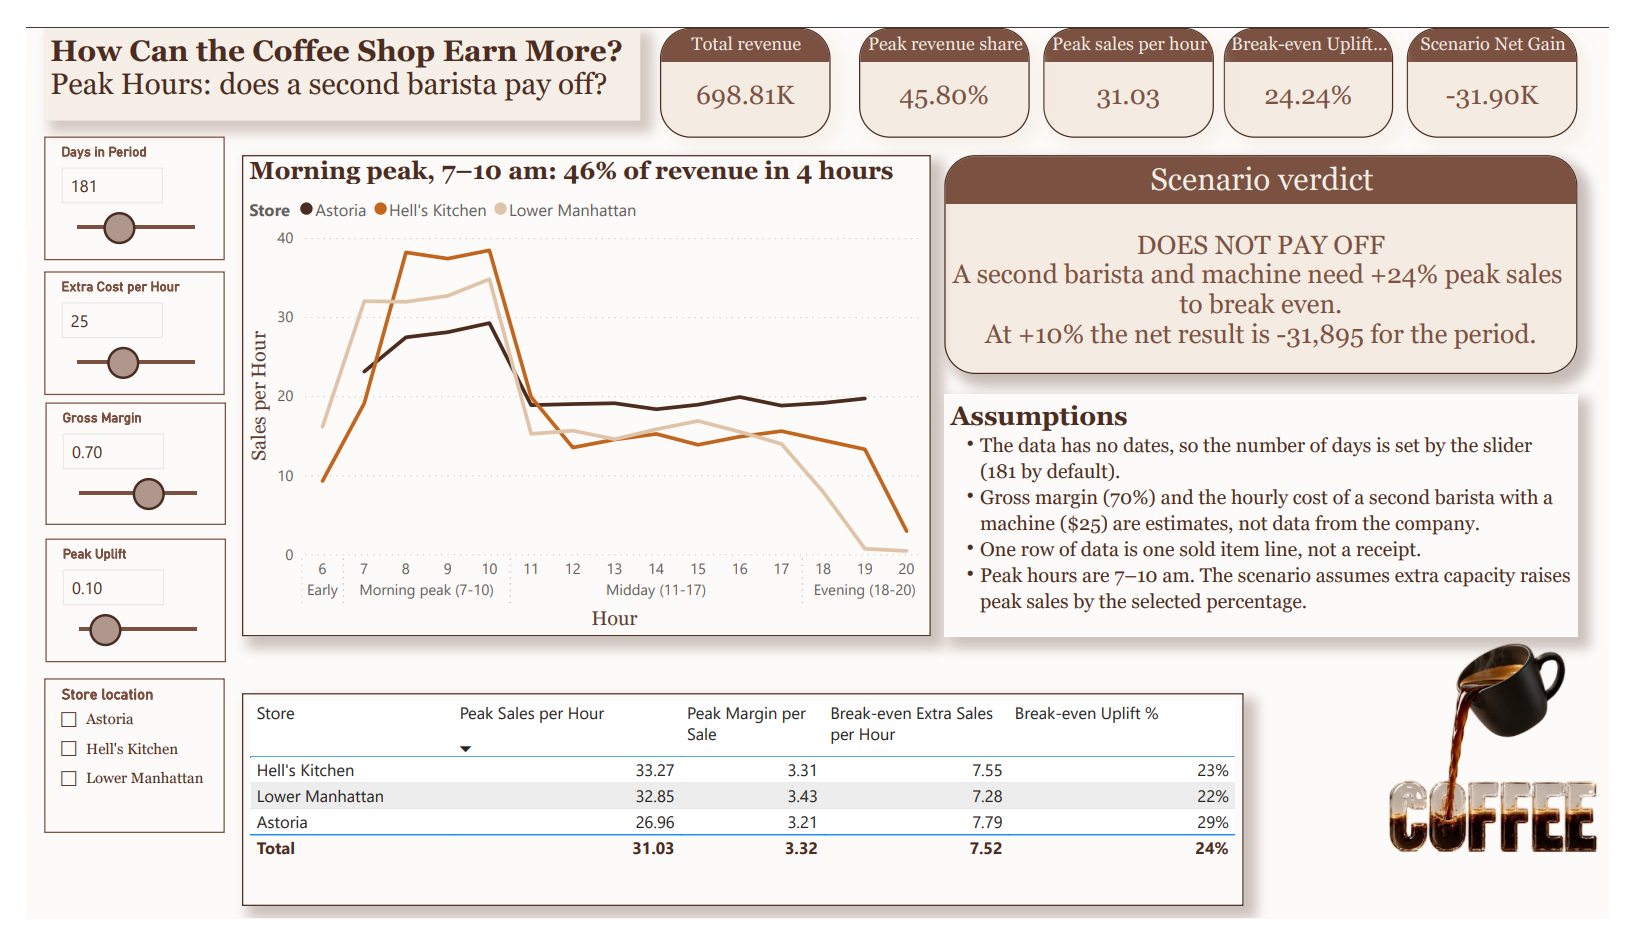

Layout of this report page (visuals, bound fields, positions):
{"tool":"powerbi","page":{"name":"Peak Hours","canvas":[1280,720],"ordinal":0},"visuals":[{"type":"textbox","box":[15.1,0,481.9,74.8],"z":0},{"type":"slicer","fields":{"Values":["Days in Period.Days in Period"]},"box":[15.2,88.5,145.6,99.9],"z":1000},{"type":"card","title":"Total revenue ","fields":{"Values":["_Measure_base.Total Revenue"]},"box":[513.1,0,137.9,89.4],"z":2000},{"type":"image","box":[1093.1,475.7,186.5,244.5],"z":3000},{"type":"slicer","fields":{"Values":["Peak Uplift.Peak Uplift"]},"box":[16.2,412.9,145.6,99.9],"z":4000},{"type":"slicer","fields":{"Values":["Gross Margin.Gross Margin"]},"box":[16.2,302.5,145.6,99.9],"z":5000},{"type":"slicer","fields":{"Values":["Store.store_location"]},"box":[15.2,526.1,145.6,124.6],"z":6000},{"type":"slicer","fields":{"Values":["Extra Cost per Hour.Extra Cost per Hour"]},"box":[15.2,196.9,145.6,99.9],"z":7000},{"type":"card","title":"Scenario Net Gain","fields":{"Values":["_Measure_Peak.Scenario Net Gain"]},"box":[1116.9,0,137.9,89.4],"z":8000},{"type":"card","title":"Break-even Uplift, %","fields":{"Values":["_Measure_Peak.Break-even Uplift %"]},"box":[968.5,0,137.9,89.4],"z":9000},{"type":"card","title":"Peak sales per hour","fields":{"Values":["_Measure_Peak.Peak Sales per Hour"]},"box":[822.7,0,137.9,89.4],"z":10000},{"type":"card","title":"Peak revenue share","fields":{"Values":["_Measure_Peak.Peak Revenue Share"]},"box":[674.1,0,137.9,89.4],"z":11000},{"type":"lineChart","title":"Morning peak, 7–10 am: 46% of revenue in 4 hours","fields":{"Category":["Hour.daypart","Hour.hour"],"Series":["Store.store_location"],"Y":["_Measure_base.Sales per Day"]},"box":[175.1,103.2,556.7,389.1],"z":12000},{"type":"tableEx","title":"Sales per Day","fields":{"Values":["Store.store_location","_Measure_Peak.Peak Sales per Hour","_Measure_Peak.Peak Margin per Sale","_Measure_Peak.Break-even Extra Sales per Hour","_Measure_Peak.Break-even Uplift %"]},"box":[175.1,537.5,809.6,172.2],"z":13000},{"type":"card","title":"Scenario verdict","fields":{"Values":["_Measure_Peak.Scenario Verdict"]},"box":[743.2,103.2,512.2,177],"z":14000},{"type":"textbox","box":[743.2,296.3,512,196],"z":14001}]}

Visuals, with their boxes in screenshot pixels (x1, y1, x2, y2):
textbox: {"x1": 44, "y1": 42, "x2": 628, "y2": 133}
slicer - Days in Period.Days in Period: {"x1": 44, "y1": 150, "x2": 221, "y2": 271}
"Total revenue " card: {"x1": 648, "y1": 42, "x2": 815, "y2": 151}
image: {"x1": 1351, "y1": 619, "x2": 1577, "y2": 916}
slicer - Peak Uplift.Peak Uplift: {"x1": 45, "y1": 543, "x2": 222, "y2": 664}
slicer - Gross Margin.Gross Margin: {"x1": 45, "y1": 409, "x2": 222, "y2": 531}
slicer - Store.store_location: {"x1": 44, "y1": 681, "x2": 221, "y2": 832}
slicer - Extra Cost per Hour.Extra Cost per Hour: {"x1": 44, "y1": 281, "x2": 221, "y2": 402}
"Scenario Net Gain" card: {"x1": 1380, "y1": 42, "x2": 1547, "y2": 151}
"Break-even Uplift, %" card: {"x1": 1200, "y1": 42, "x2": 1367, "y2": 151}
"Peak sales per hour" card: {"x1": 1023, "y1": 42, "x2": 1191, "y2": 151}
"Peak revenue share" card: {"x1": 843, "y1": 42, "x2": 1010, "y2": 151}
"Morning peak, 7–10 am: 46% of revenue in 4 hours" lineChart: {"x1": 238, "y1": 168, "x2": 913, "y2": 640}
"Sales per Day" tableEx: {"x1": 238, "y1": 694, "x2": 1220, "y2": 903}
"Scenario verdict" card: {"x1": 927, "y1": 168, "x2": 1548, "y2": 382}
textbox: {"x1": 927, "y1": 402, "x2": 1548, "y2": 640}
